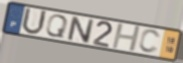2: (92, 21, 113, 49)
C: (138, 29, 162, 55)
H: (111, 23, 143, 53)
N: (66, 15, 95, 45)
Q: (44, 14, 69, 40)
U: (20, 6, 49, 36)
